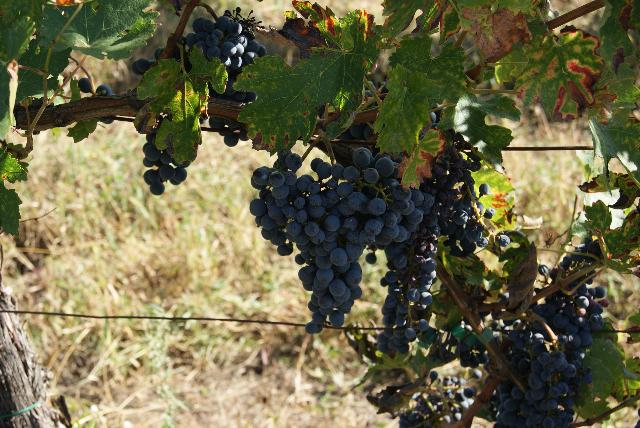grapes: (296, 148, 428, 331), (378, 202, 486, 354), (490, 349, 594, 428), (185, 15, 266, 102), (250, 150, 314, 255)
